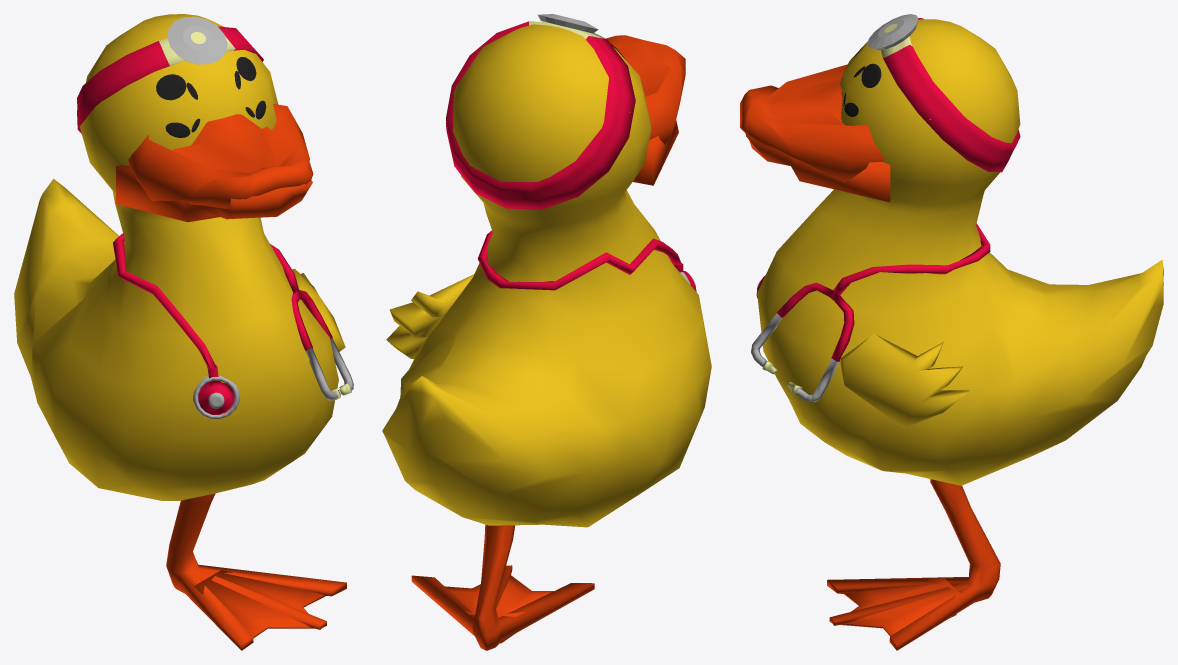
Rendered from duck.gltf.
3 renders of one model, left to right at view 1: azimuth 30°, elevation 25°; view 2: azimuth 150°, elevation 25°; view 3: azimuth 270°, elevation 25°, orthographic. The views are drawn at different scales.
Parts seen in each view (by area): view 1: Sphere, Cube, Cube.001, Cube.002, Cube.003, Plane, Sphere.001, Circle.001, Sphere.002, Circle, Cube.004; view 2: Sphere, Sphere.001, Cube.001, Cube, Cube.004, Cube.003, Plane, Cube.002, Circle.001; view 3: Sphere, Cube, Cube.001, Cube.004, Sphere.001, Cube.003, Plane, Cube.002, Circle.001, Sphere.002.
Boxes of the visible parts, bbox=[...] form: Sphere: bbox=[14, 14, 338, 500]; Cube: bbox=[128, 104, 313, 208]; Cube.001: bbox=[166, 493, 346, 650]; Cube.002: bbox=[116, 165, 312, 222]; Cube.003: bbox=[113, 233, 353, 401]; Plane: bbox=[194, 570, 325, 638]; Sphere.001: bbox=[77, 26, 263, 133]; Circle.001: bbox=[167, 16, 227, 64]; Sphere.002: bbox=[156, 57, 266, 137]; Circle: bbox=[193, 375, 239, 419]; Cube.004: bbox=[292, 268, 345, 351]; Sphere: bbox=[382, 24, 711, 527]; Sphere.001: bbox=[446, 21, 635, 209]; Cube.001: bbox=[411, 524, 594, 650]; Cube: bbox=[606, 35, 685, 146]; Cube.004: bbox=[386, 274, 474, 358]; Cube.003: bbox=[477, 230, 683, 290]; Plane: bbox=[445, 575, 553, 643]; Cube.002: bbox=[633, 120, 678, 185]; Circle.001: bbox=[538, 14, 598, 33]; Sphere: bbox=[757, 19, 1163, 485]; Cube: bbox=[740, 64, 883, 182]; Cube.001: bbox=[827, 479, 1000, 650]; Cube.004: bbox=[840, 333, 969, 428]; Sphere.001: bbox=[881, 18, 1020, 172]; Cube.003: bbox=[751, 223, 990, 402]; Plane: bbox=[840, 577, 961, 635]; Cube.002: bbox=[745, 133, 890, 202]; Circle.001: bbox=[867, 14, 918, 50]; Sphere.002: bbox=[843, 45, 881, 116].
Size of the model in its own units: 1.9 by 4.01 by 2.69.
